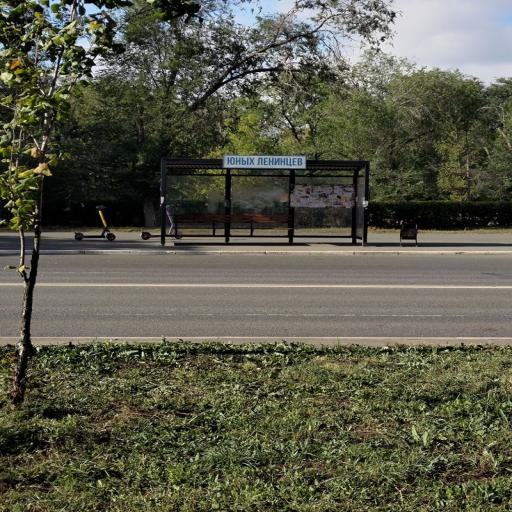bicycle: (160, 155, 369, 245)
glass_wall: (0, 254, 512, 338)
